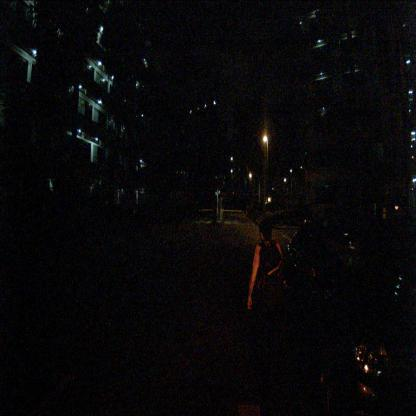human-pedestrian-adult: (246, 217, 284, 393)
vehicle-car: (282, 214, 416, 416)
